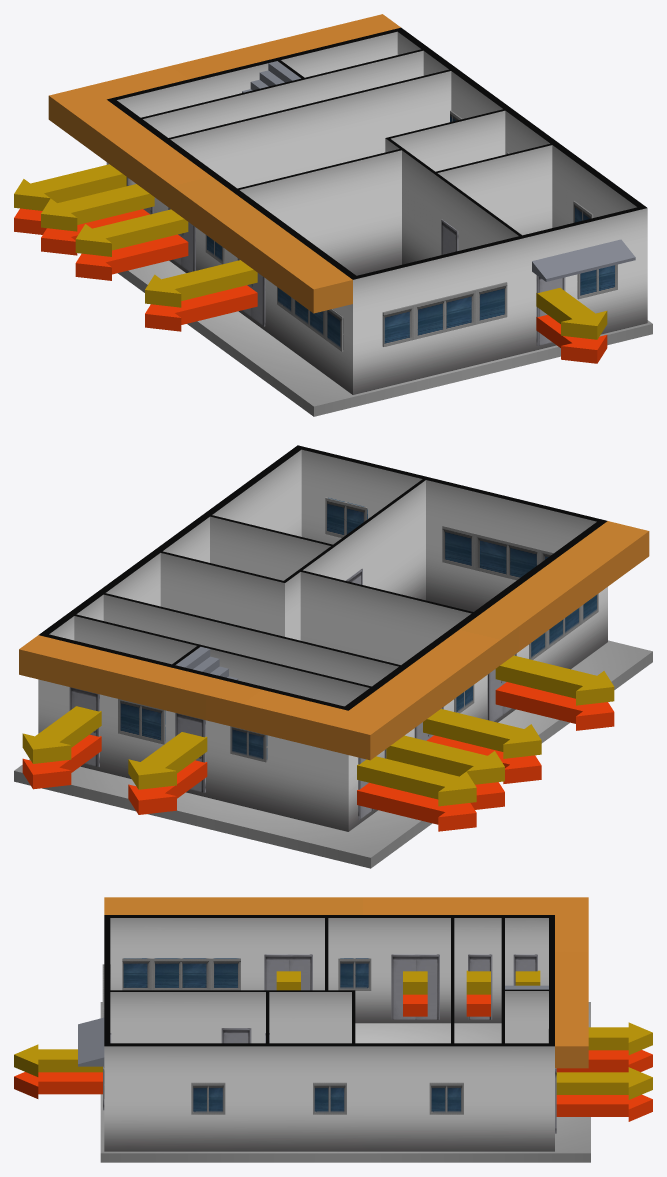
File: soulbrain_T8-office-1F.glb
3 renders of one model, top to bottom at view 1: azimuth 30°, elevation 25°; view 2: azimuth 150°, elevation 25°; view 3: azimuth 270°, elevation 25°, orthographic. The views are drawn at different scales.
Visible parts, largest first — view 1: Box009, Box1741, Box014, arrow_Y_4_T8-office-1F, arrow_Y_3_T8-office-1F, arrow_Y_2_T8-office-1F, arrow_Y_5_T8-office-1F, arrow_R_3_T8-office-1F, arrow_R_2_T8-office-1F, Box011, Box1743, arrow_Y_1_T8-office-1F (+5 smaller); view 2: Box009, Box1741, Box014, arrow_Y_5_T8-office-1F, arrow_Y_2_T8-office-1F, arrow_Y_3_T8-office-1F, arrow_Y_4_T8-office-1F, arrow_R_5_T8-office-1F, arrow_R_2_T8-office-1F, Box011, arrow_Y_7_T8-office-1F, arrow_Y_6_T8-office-1F (+6 smaller); view 3: Box009, Box1741, Box014, Box011, arrow_Y_7_T8-office-1F, arrow_R_7_T8-office-1F, arrow_R_1_T8-office-1F, arrow_Y_1_T8-office-1F, arrow_Y_6_T8-office-1F, arrow_R_6_T8-office-1F, Box1743, arrow_Y_4_T8-office-1F (+4 smaller).
Boxes of the visible parts, x1=… form: Box009: x1=48, y1=14, x2=647, y2=394; Box1741: x1=118, y1=260, x2=652, y2=416; Box014: x1=205, y1=110, x2=593, y2=351; arrow_Y_4_T8-office-1F: x1=41, y1=184, x2=154, y2=231; arrow_Y_3_T8-office-1F: x1=75, y1=209, x2=188, y2=256; arrow_Y_2_T8-office-1F: x1=145, y1=260, x2=257, y2=307; arrow_Y_5_T8-office-1F: x1=14, y1=164, x2=126, y2=210; arrow_R_3_T8-office-1F: x1=75, y1=234, x2=188, y2=280; arrow_R_2_T8-office-1F: x1=145, y1=285, x2=257, y2=331; Box011: x1=126, y1=177, x2=565, y2=345; Box1743: x1=532, y1=239, x2=635, y2=281; arrow_Y_1_T8-office-1F: x1=536, y1=287, x2=607, y2=339; Box009: x1=19, y1=445, x2=649, y2=831; Box1741: x1=14, y1=640, x2=652, y2=868; Box014: x1=118, y1=526, x2=598, y2=762; arrow_Y_5_T8-office-1F: x1=357, y1=756, x2=476, y2=806; arrow_Y_2_T8-office-1F: x1=495, y1=655, x2=614, y2=705; arrow_Y_3_T8-office-1F: x1=423, y1=709, x2=541, y2=758; arrow_Y_4_T8-office-1F: x1=386, y1=735, x2=504, y2=784; arrow_R_5_T8-office-1F: x1=357, y1=782, x2=476, y2=831; arrow_R_2_T8-office-1F: x1=495, y1=682, x2=614, y2=730; Box011: x1=69, y1=568, x2=516, y2=819; arrow_Y_7_T8-office-1F: x1=22, y1=706, x2=101, y2=763; arrow_Y_6_T8-office-1F: x1=128, y1=732, x2=207, y2=789; Box009: x1=104, y1=897, x2=588, y2=1151; Box1741: x1=100, y1=1002, x2=590, y2=1162; Box014: x1=102, y1=958, x2=548, y2=1114; Box011: x1=103, y1=954, x2=556, y2=1133; arrow_Y_7_T8-office-1F: x1=556, y1=1067, x2=652, y2=1099; arrow_R_7_T8-office-1F: x1=556, y1=1094, x2=652, y2=1121; arrow_R_1_T8-office-1F: x1=14, y1=1072, x2=102, y2=1098; arrow_Y_1_T8-office-1F: x1=14, y1=1044, x2=102, y2=1076; arrow_Y_6_T8-office-1F: x1=588, y1=1022, x2=652, y2=1054; arrow_R_6_T8-office-1F: x1=556, y1=1050, x2=652, y2=1072; Box1743: x1=78, y1=1017, x2=104, y2=1066; arrow_Y_4_T8-office-1F: x1=466, y1=970, x2=490, y2=994.
Size of the model in its own units: 12.38 by 3.67 by 18.49.
10 materials, 7 textured.
